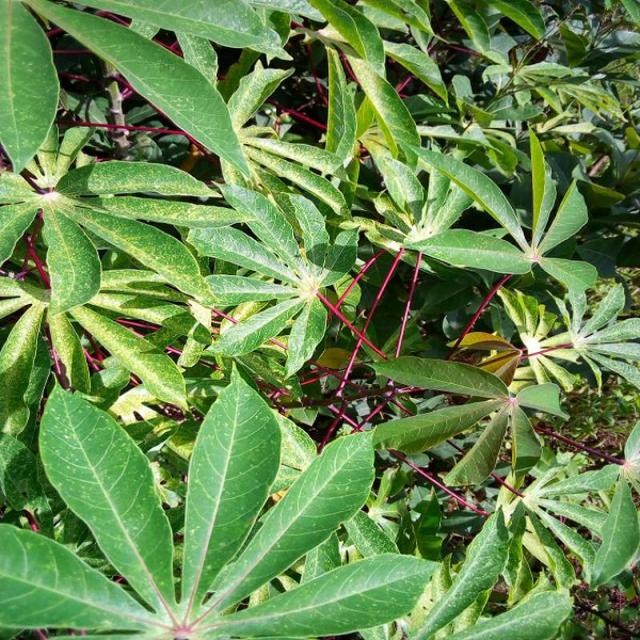cassava leaf: (0, 1, 638, 637), (1, 360, 438, 638), (37, 378, 176, 620), (180, 359, 282, 624)
